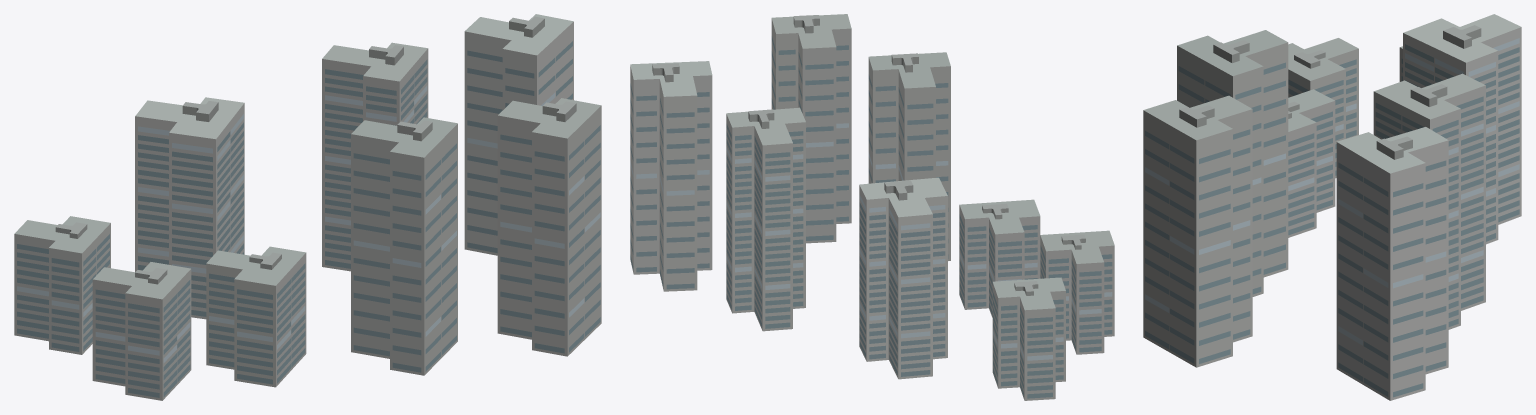
The model's file is apt-a12119004.glb.
3 renders of one model, left to right at view 1: azimuth 30°, elevation 25°; view 2: azimuth 150°, elevation 25°; view 3: azimuth 270°, elevation 25°, orthographic. The views are drawn at different scales.
Parts seen in each view (by area): view 1: apt-a12119004; view 2: apt-a12119004; view 3: apt-a12119004.
Boxes of the visible parts, x1,y1,x2,y2 form: apt-a12119004: (14, 14, 601, 400); apt-a12119004: (630, 14, 1114, 400); apt-a12119004: (1143, 14, 1521, 400).
Size of the model in its own units: 163 by 68 by 99.01.
